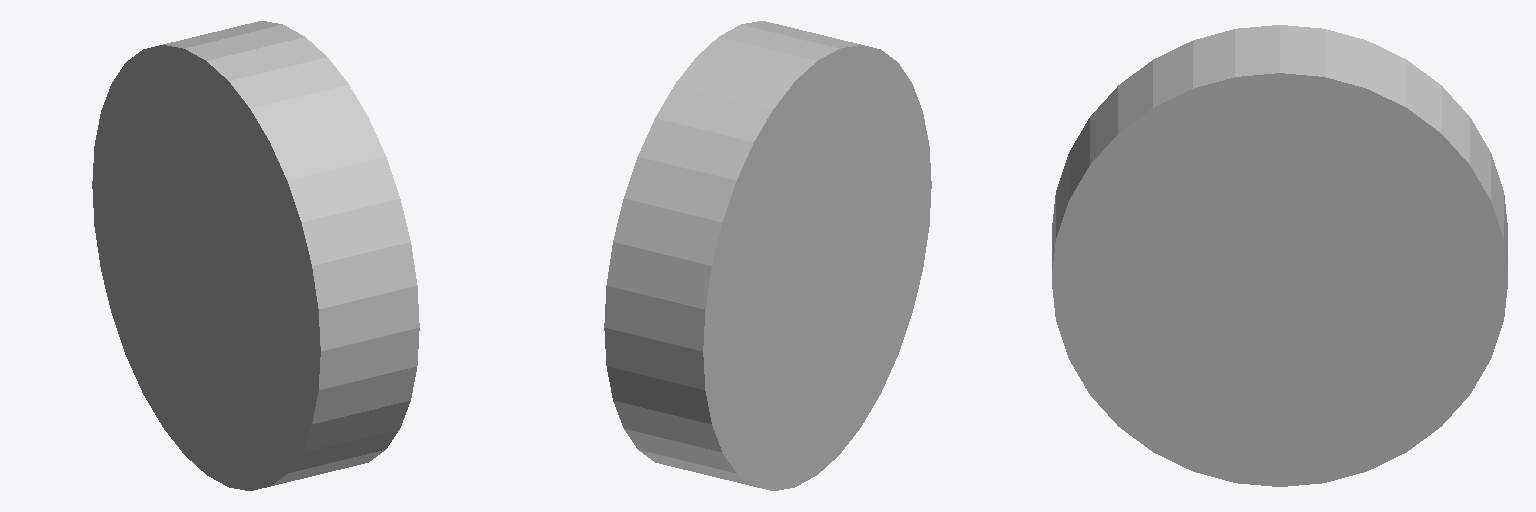
The model's file is film_cassette.obj.
3 views of the same model, side by side, from view 1: azimuth 30°, elevation 25°; view 2: azimuth 150°, elevation 25°; view 3: azimuth 270°, elevation 25° (orthographic).
Parts seen in each view (by area): view 1: film_cassette; view 2: film_cassette; view 3: film_cassette.
Part boxes in pixels (left/top/right/bottom): film_cassette: left=92, top=21, right=419, bottom=490; film_cassette: left=604, top=21, right=931, bottom=490; film_cassette: left=1052, top=25, right=1507, bottom=486.
Bounding box in the file's own units: 0.06 × 0.24 × 0.24.